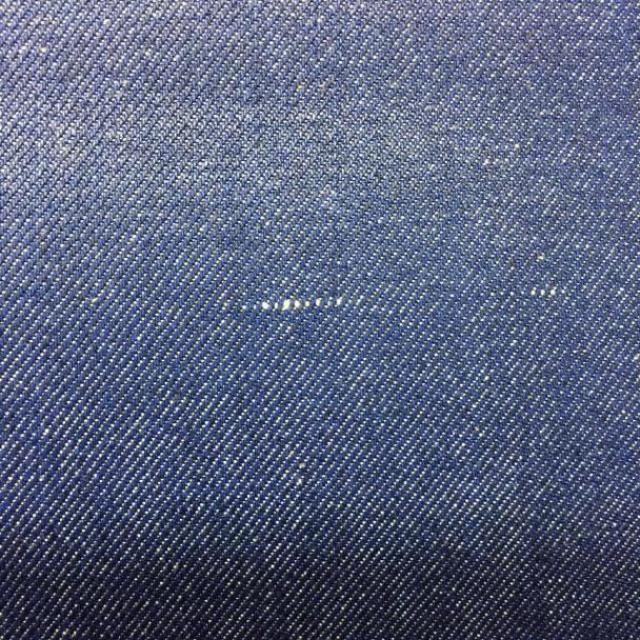Knot: (241, 296, 367, 313), (491, 285, 568, 298)
